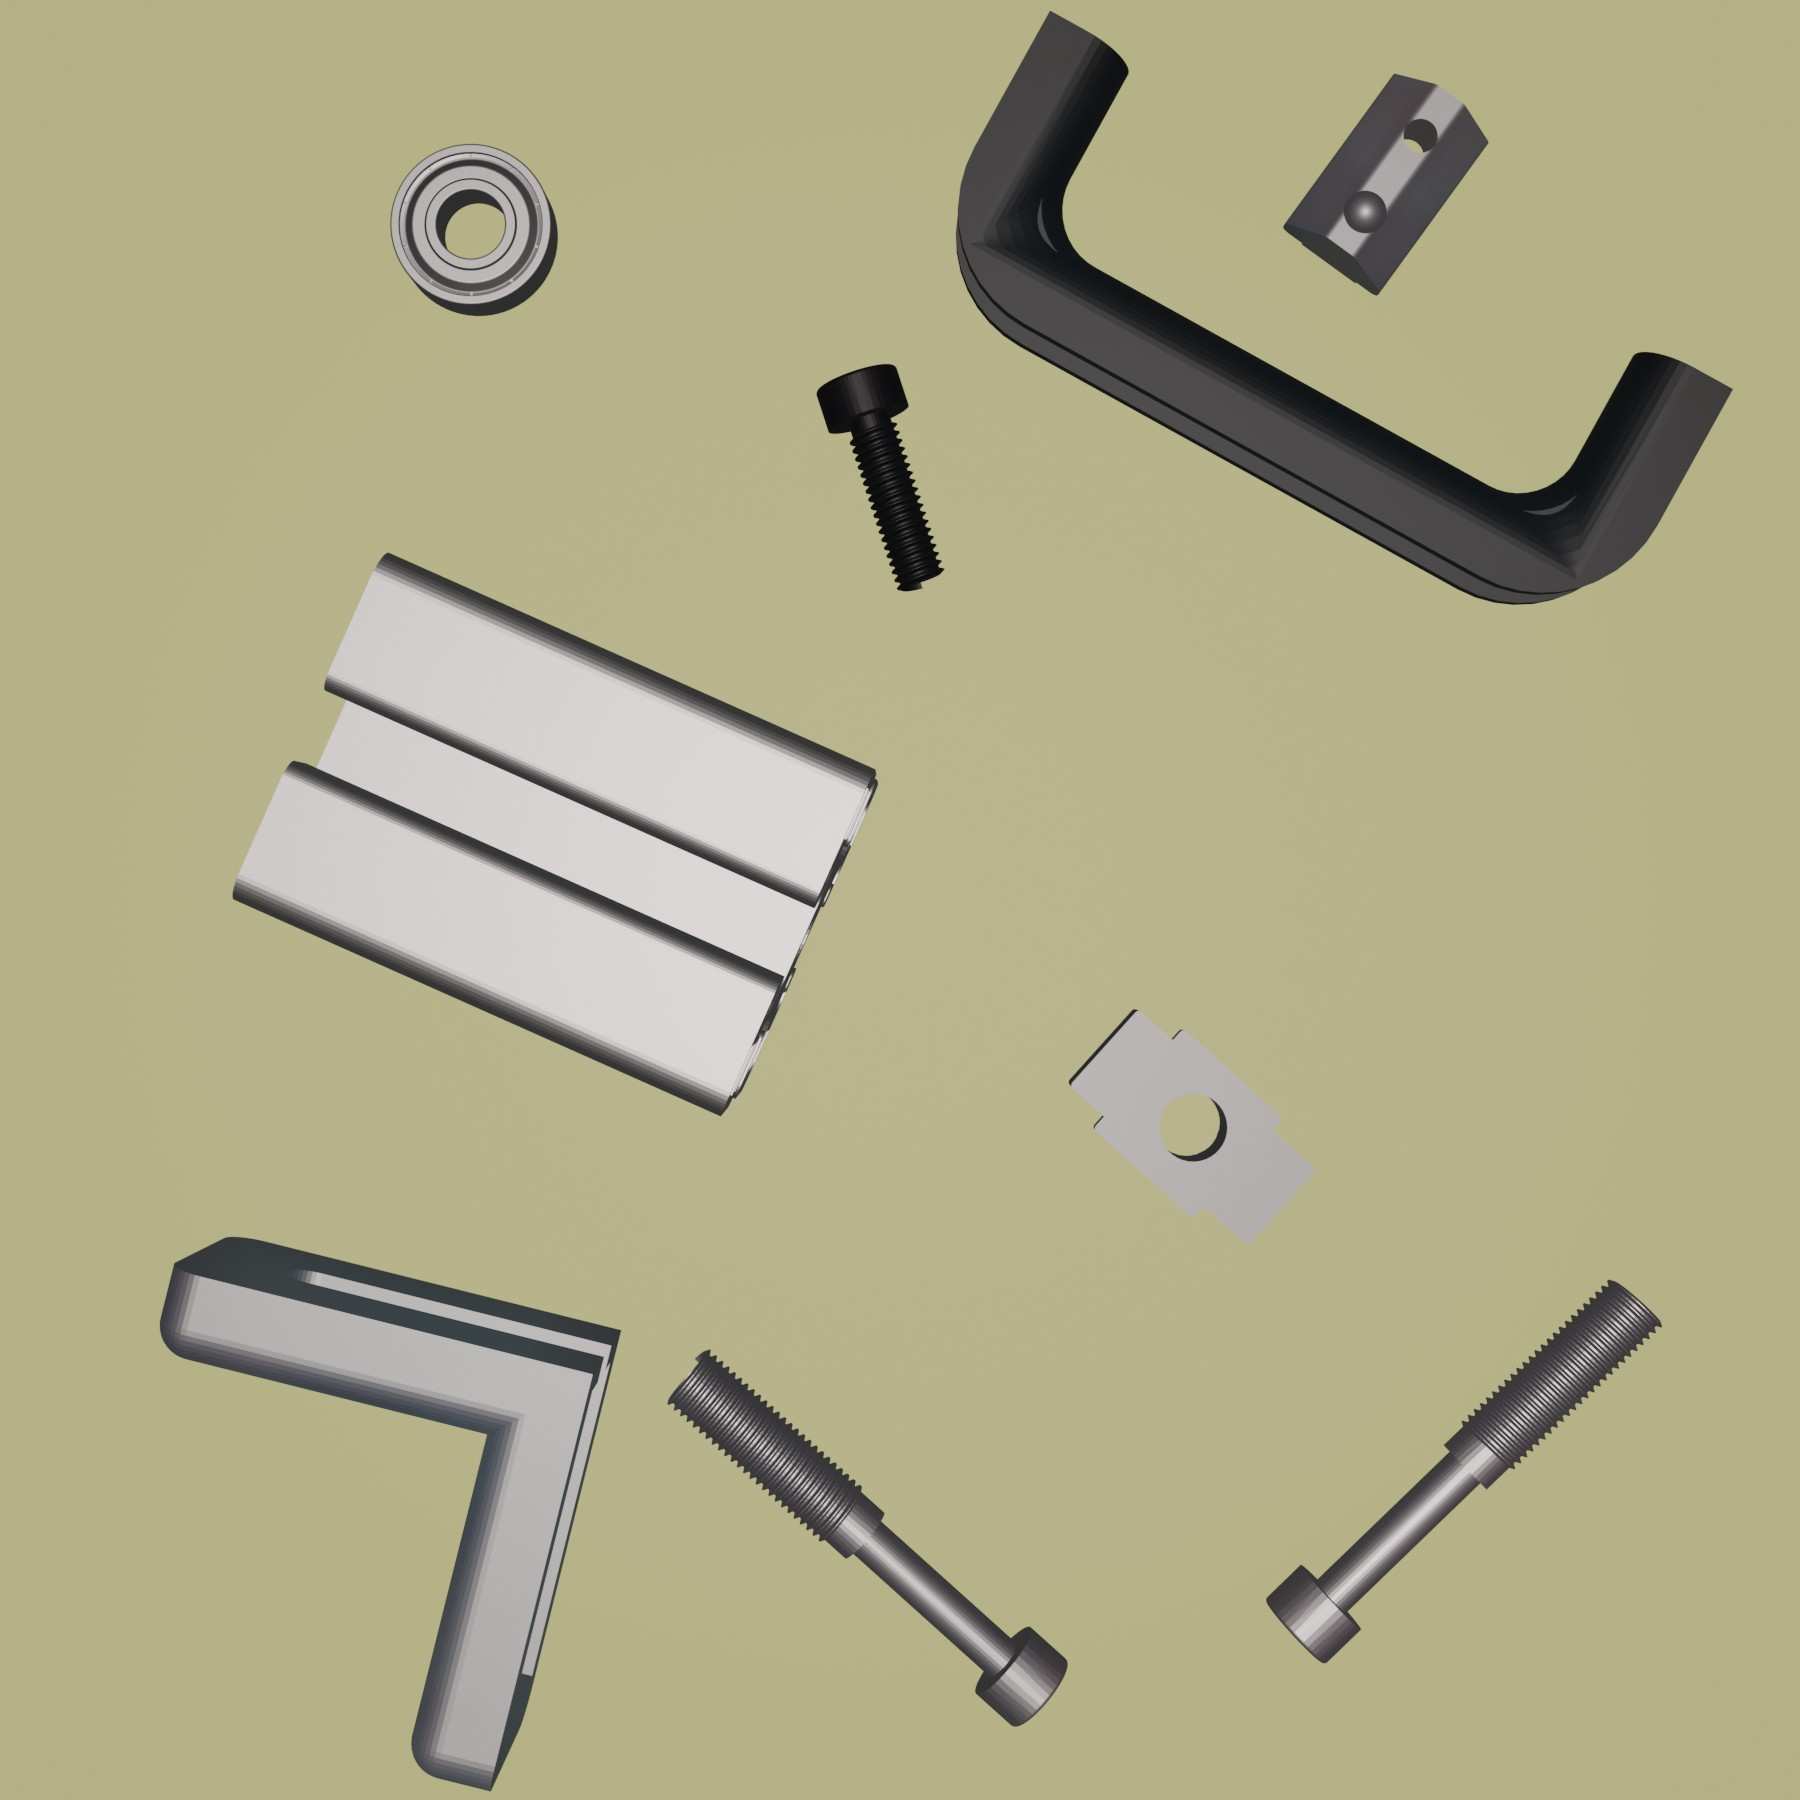Aluminium Extension: (227, 547, 880, 1119)
Ball Bearing: (387, 142, 560, 318)
Multiwinkel: (158, 1235, 625, 1792)
Pull Handle: (953, 8, 1732, 607)
Shoulder Socket Head Cap Screw: (1263, 1276, 1663, 1666), (668, 1347, 1070, 1727)
Socket Head Cap Screw: (813, 361, 948, 595)
T Nut Square: (1066, 1002, 1320, 1251)
T Spring Nut: (1282, 69, 1492, 297)
